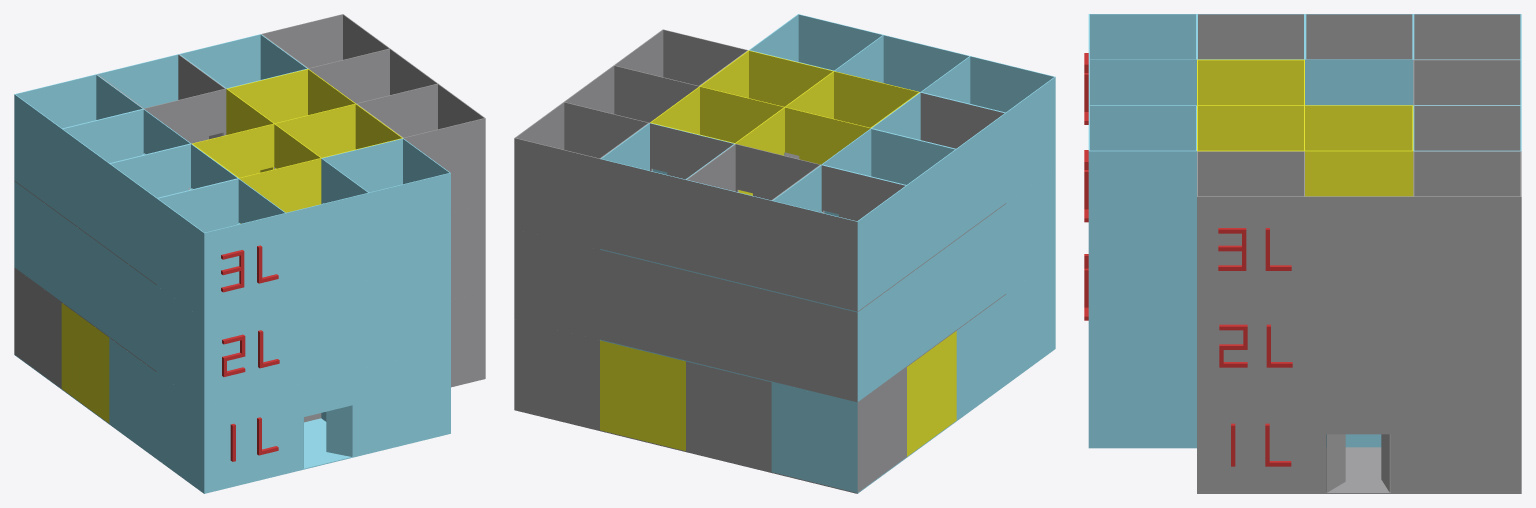
File: 第九组.glb
The picture shows the model from 3 angles, left to right: view 1: azimuth 30°, elevation 25°; view 2: azimuth 150°, elevation 25°; view 3: azimuth 270°, elevation 25°; orthographic projection. The views are drawn at different scales.
Size of the model in its own units: 0.0202 by 0.0151 by 0.0202.
